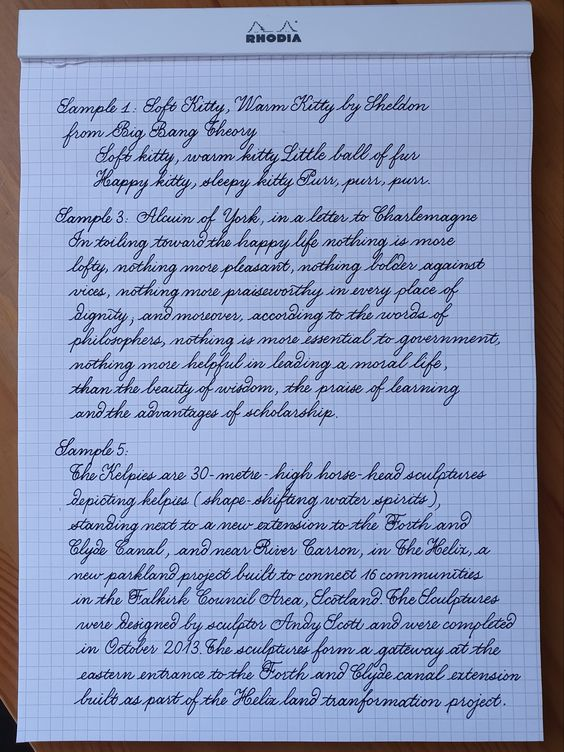page: (20, 11, 531, 737)
